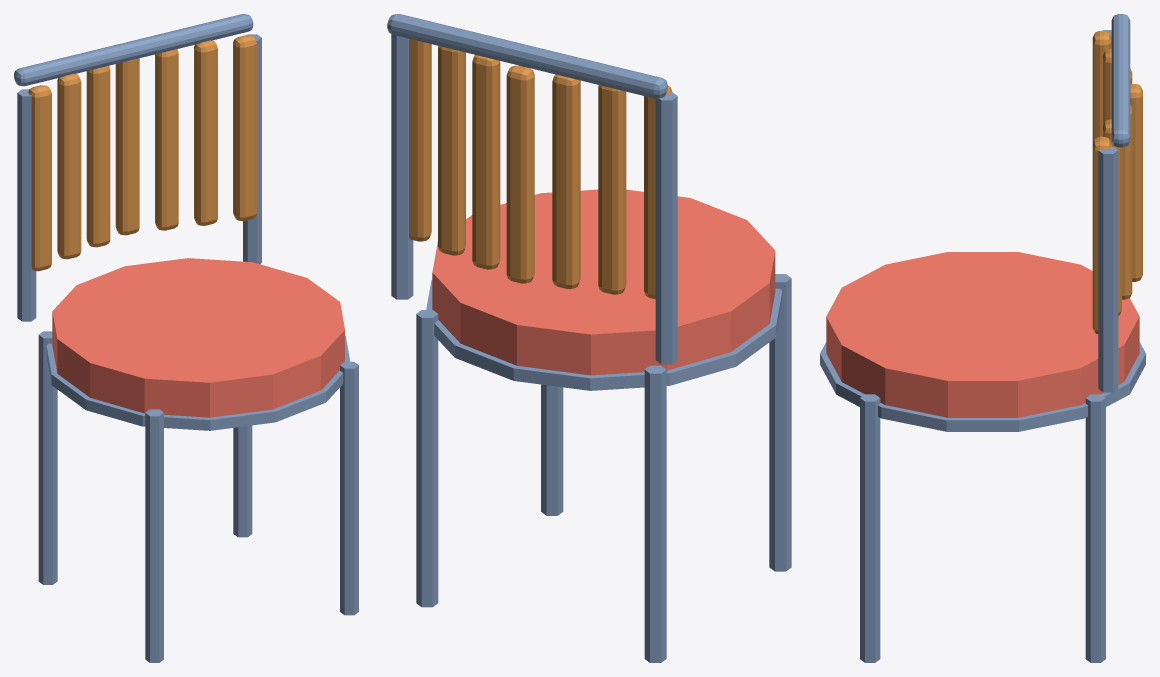
File: cafe_chair.glb
The picture shows the model from 3 angles, left to right: view 1: azimuth 30°, elevation 25°; view 2: azimuth 150°, elevation 25°; view 3: azimuth 270°, elevation 25°; orthographic projection. The views are drawn at different scales.
Visible parts, largest first — view 1: Cylinder; view 2: Cylinder; view 3: Cylinder.
Part boxes in pixels (box(x1,y1,x2,y2)): Cylinder: box(14, 14, 358, 662); Cylinder: box(387, 14, 791, 662); Cylinder: box(820, 14, 1145, 662).
Bounding box in the file's own units: 0.507 × 0.945 × 0.52.
